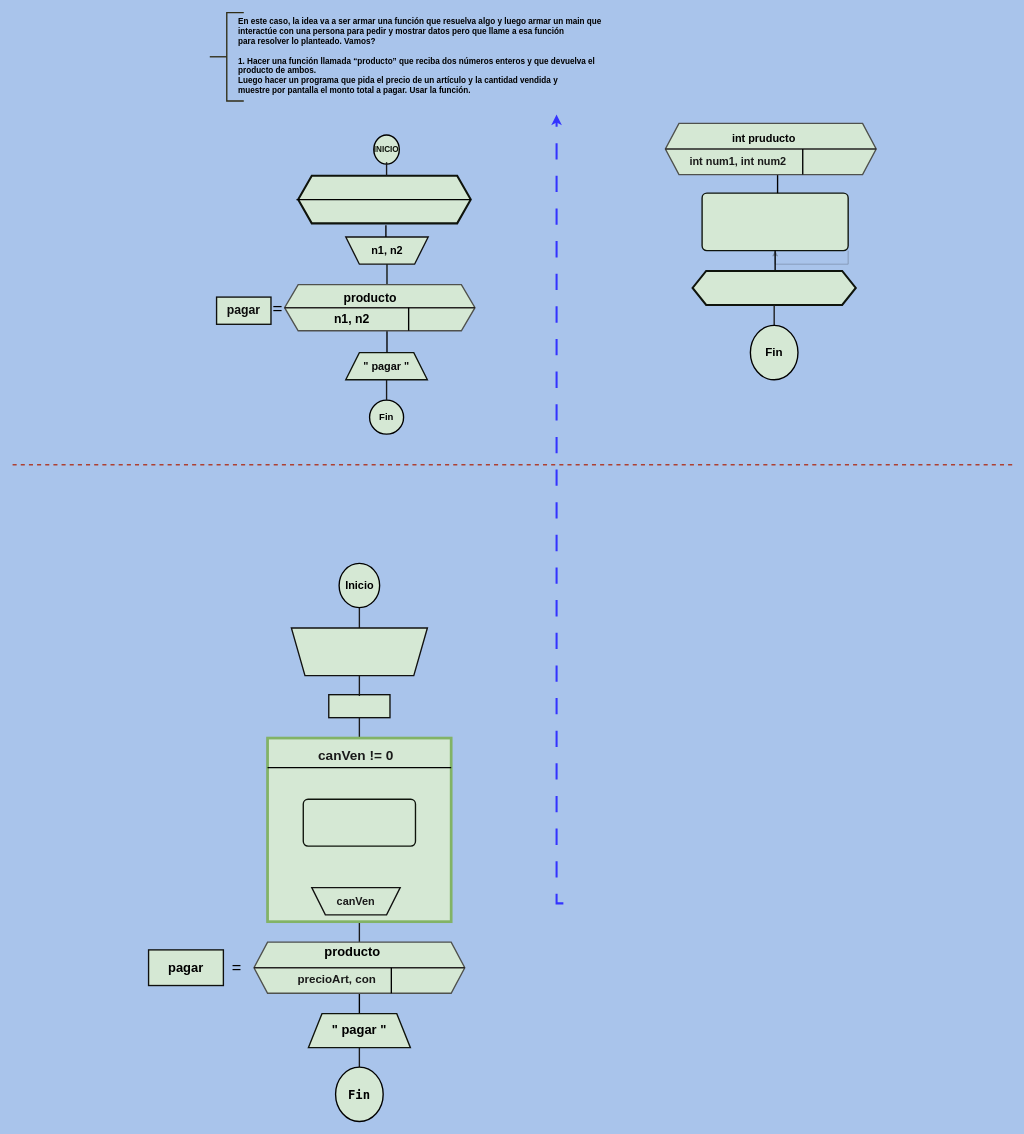
This 1024x1134 diagram has some shape labels left out. The shapes that lost their labels are listed below. From the top down, each one's centre as x and y in pixels, then its label:
At (x=384, y=199): "void main".
At (x=775, y=221): "resultado = num1 * num2".
At (x=773, y=288): "return resultado".
At (x=359, y=651): "precioArt, canVen".
At (x=359, y=706): "acu".
At (x=359, y=822): "acu += canVen".
